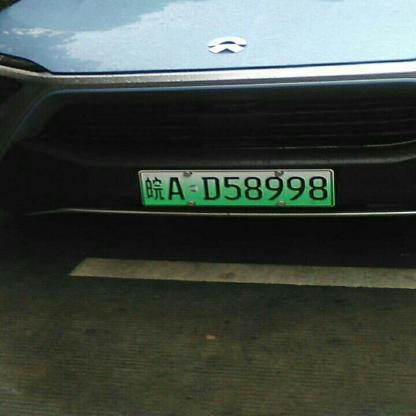lp: (140, 170, 333, 204)
